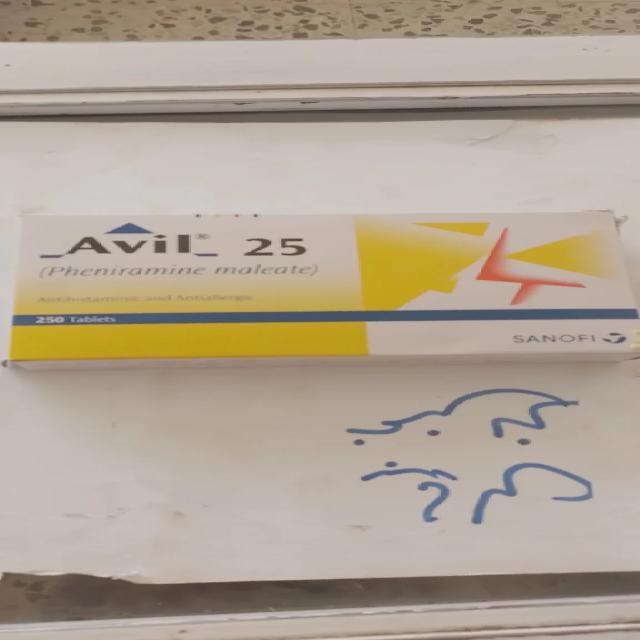drug-name: (58, 236, 306, 260)
